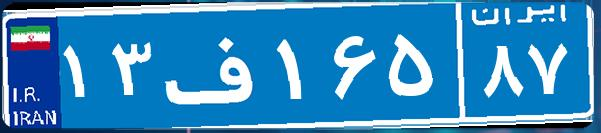1: (273, 28, 330, 110), (57, 26, 110, 107)
3: (110, 28, 158, 105)
5: (385, 28, 445, 110)
6: (330, 28, 385, 110)
7: (525, 38, 570, 115)
8: (475, 38, 525, 113)
ف: (158, 15, 273, 115)
